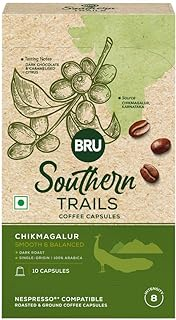Coffee: (1, 1, 176, 319)
